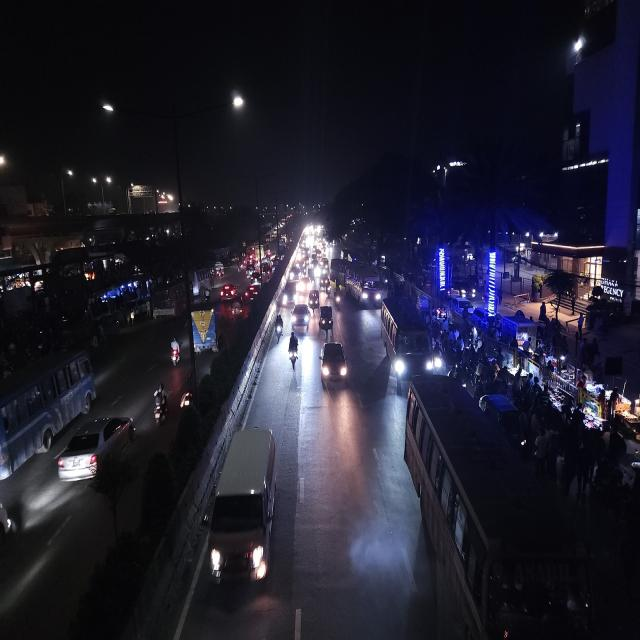bus: (401, 376, 602, 640), (0, 346, 95, 484), (380, 294, 434, 391), (346, 266, 382, 310), (186, 263, 214, 303)
car: (208, 426, 282, 596), (55, 409, 137, 494), (320, 337, 350, 393), (290, 302, 310, 336), (280, 280, 298, 309), (220, 282, 236, 302), (243, 284, 260, 300), (289, 264, 303, 283)
cng: (318, 302, 334, 338), (308, 288, 321, 311), (228, 298, 242, 316), (320, 272, 328, 290)
motorcycle: (151, 379, 170, 431), (166, 334, 182, 370), (288, 330, 300, 371), (179, 387, 194, 416), (274, 311, 284, 342), (334, 288, 342, 309)
truck: (187, 301, 222, 357)
